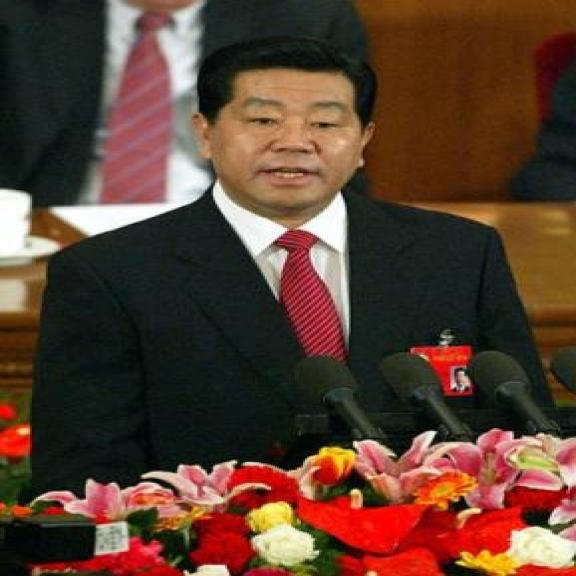face: (191, 81, 378, 213)
